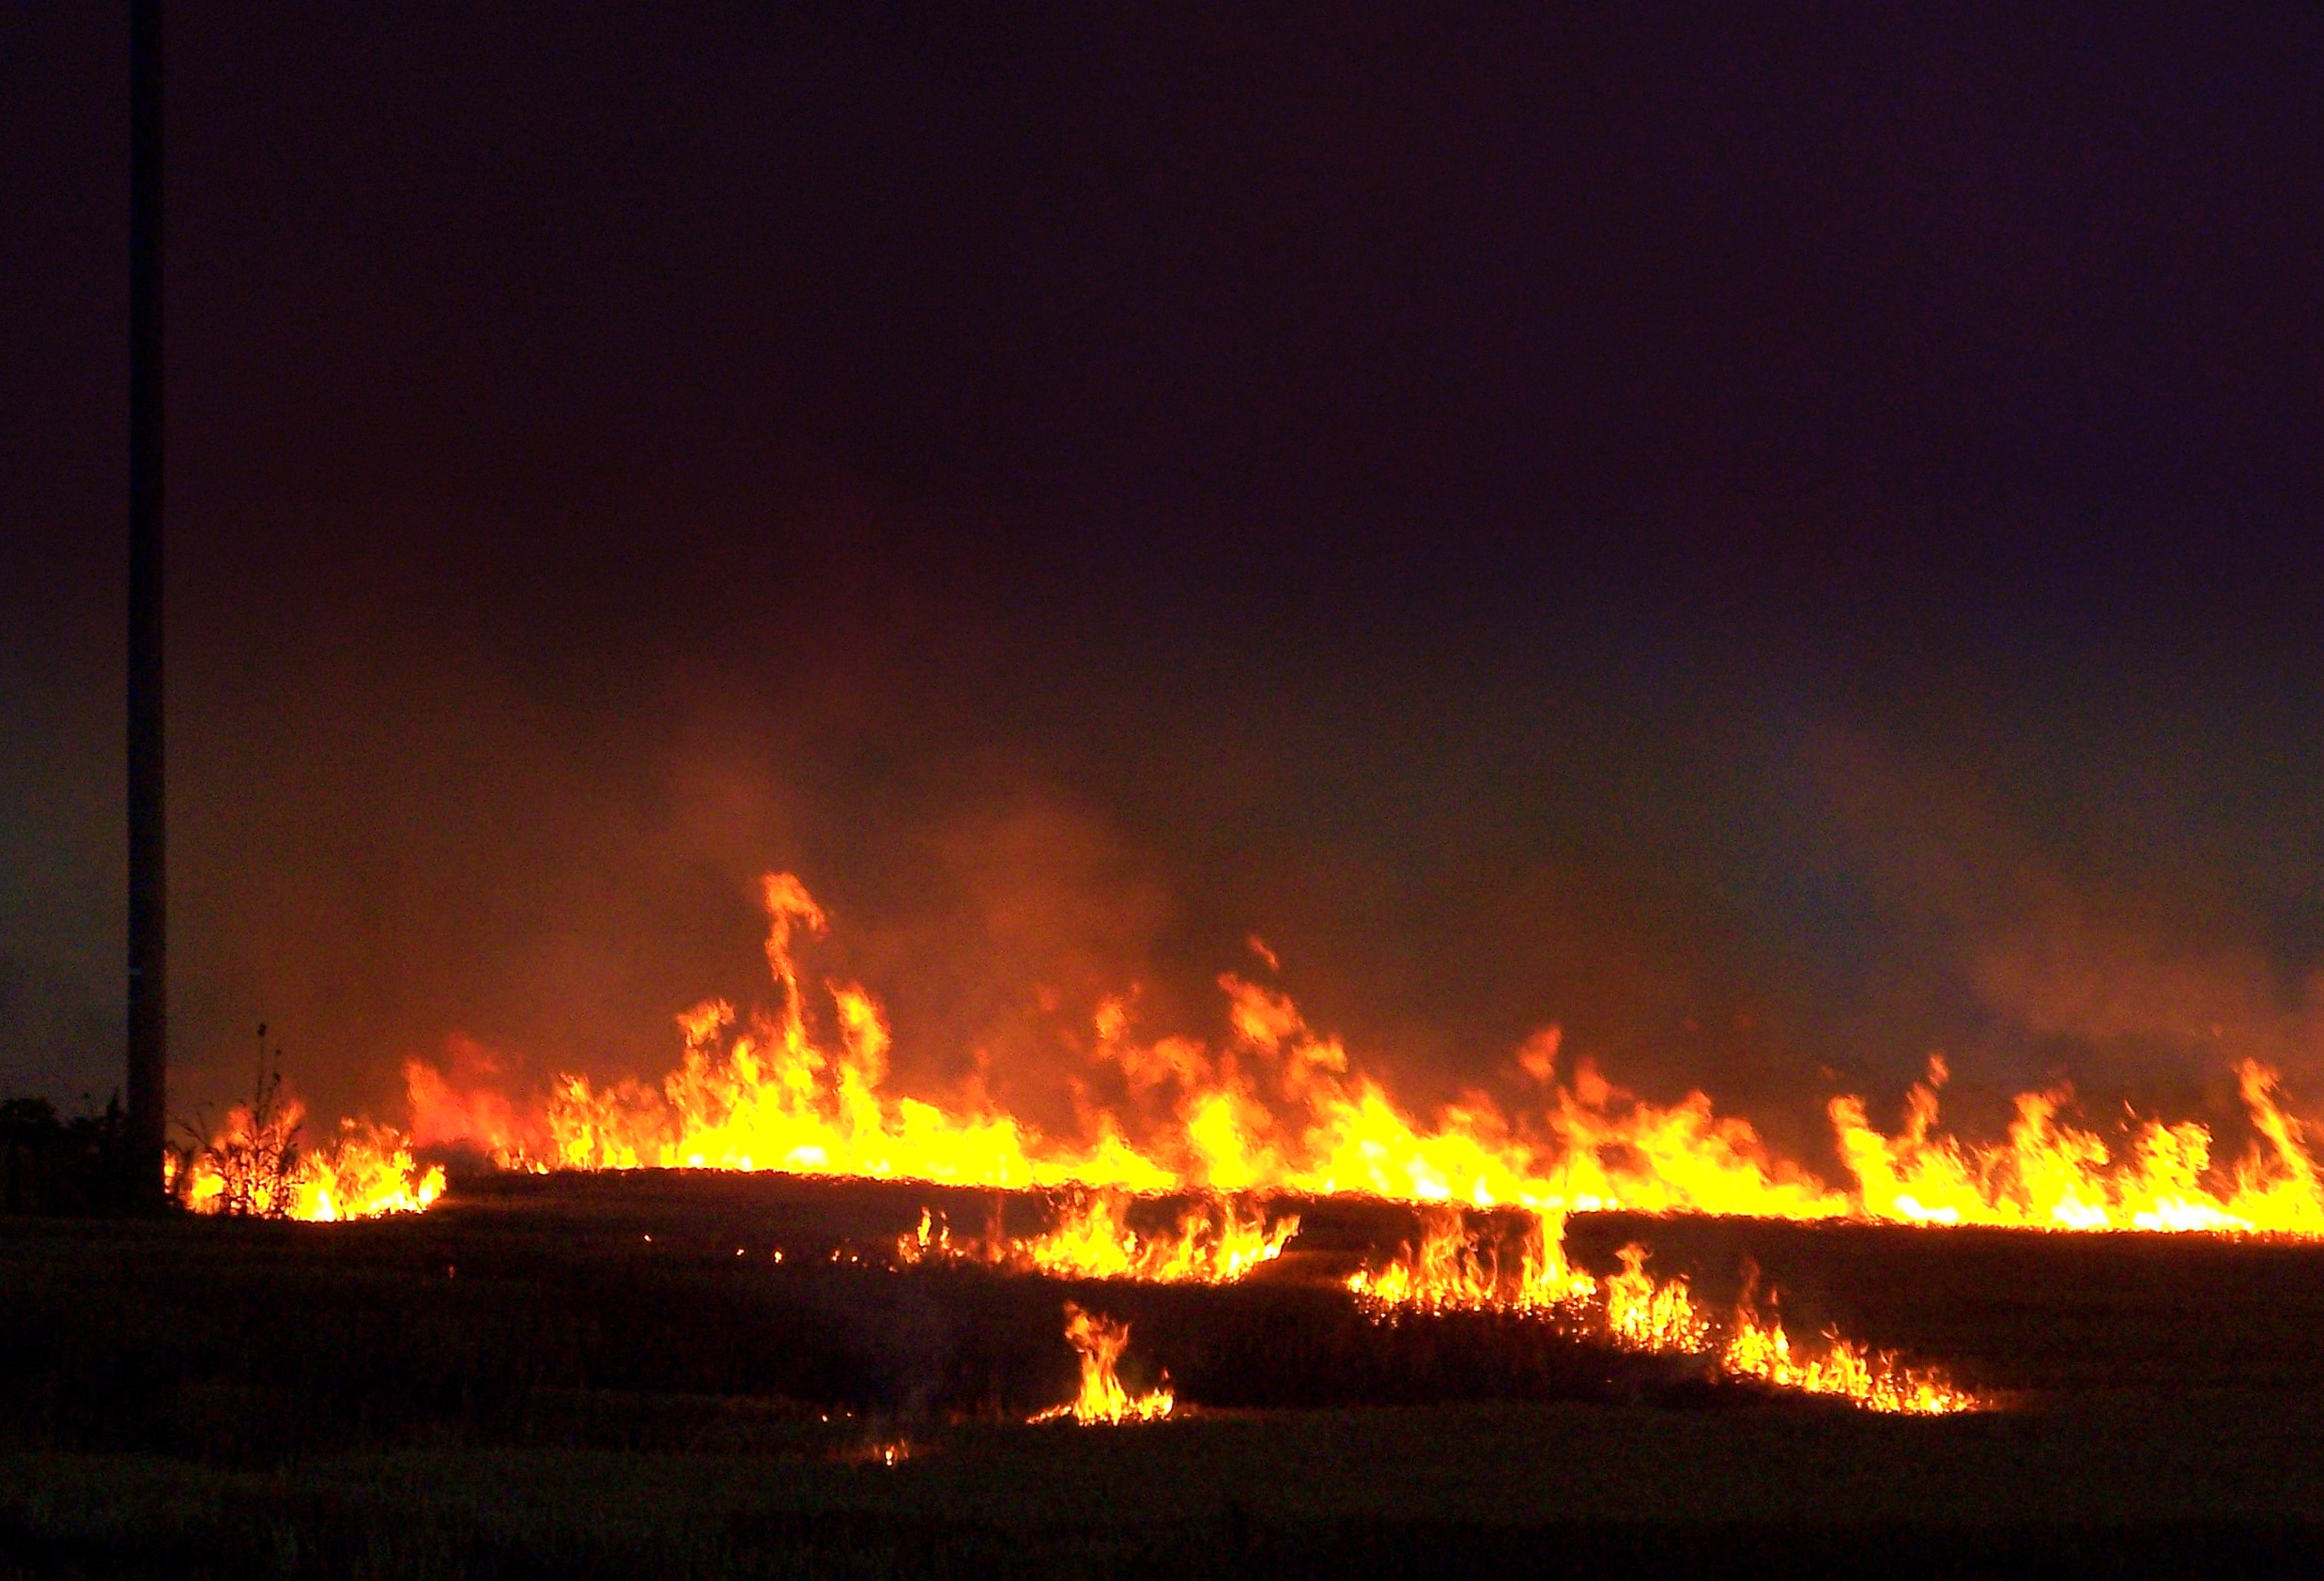fire: (168, 910, 2324, 1413)
